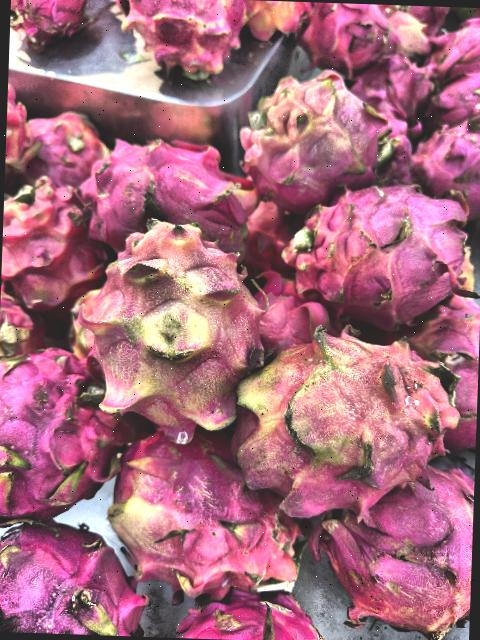buah-naga-belum-matang: (218, 322, 466, 504), (83, 208, 258, 421), (89, 432, 307, 598), (229, 76, 382, 200)
buah-naga-matang: (328, 443, 476, 637), (291, 187, 474, 317), (84, 138, 248, 260), (0, 348, 124, 502), (0, 517, 135, 635), (0, 188, 102, 298), (120, 0, 238, 73), (24, 106, 116, 194), (166, 594, 315, 640), (418, 103, 480, 213), (298, 2, 396, 67), (9, 0, 101, 42), (372, 49, 430, 108), (433, 11, 480, 75), (429, 69, 480, 125)
